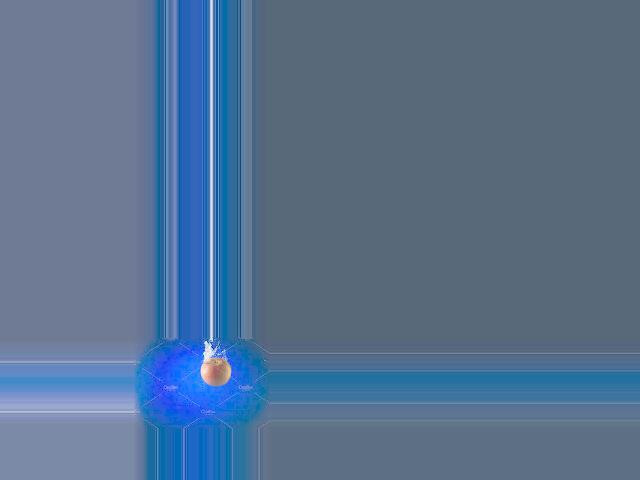tomato: (201, 357, 232, 385)
